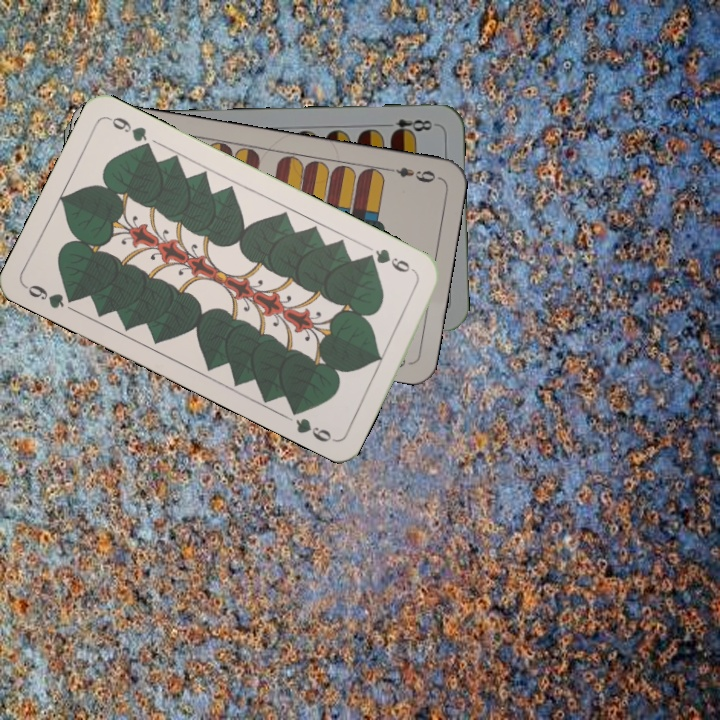E8: (379, 115, 435, 138)
E9: (382, 163, 441, 186)
G9: (361, 244, 419, 277), (21, 280, 81, 311)
